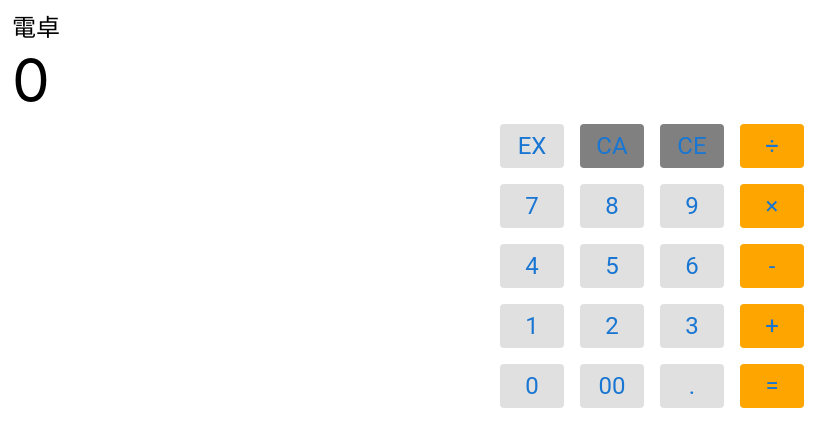
Test: handleNumberClick event › 「1」ボタンをクリックすると、1が表示される"
Click the button "1".
click(532, 326)  # box top-left (500, 304), bottom-right (564, 348)
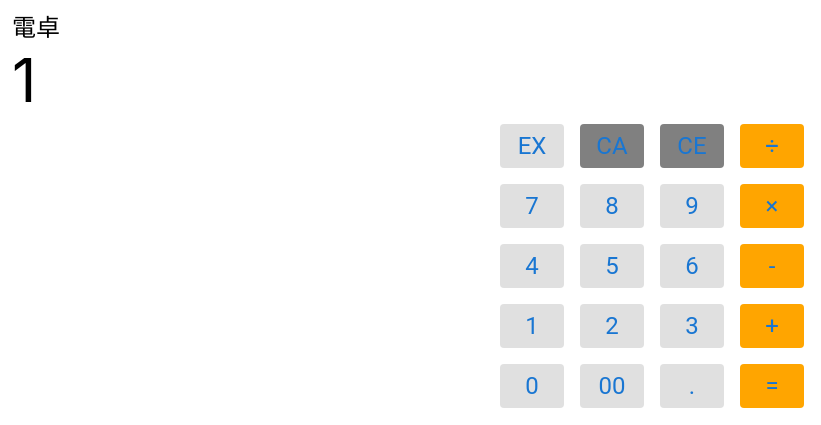
Result: the text with test id "display" reads "1" at top-left (12, 44), bottom-right (36, 116)
